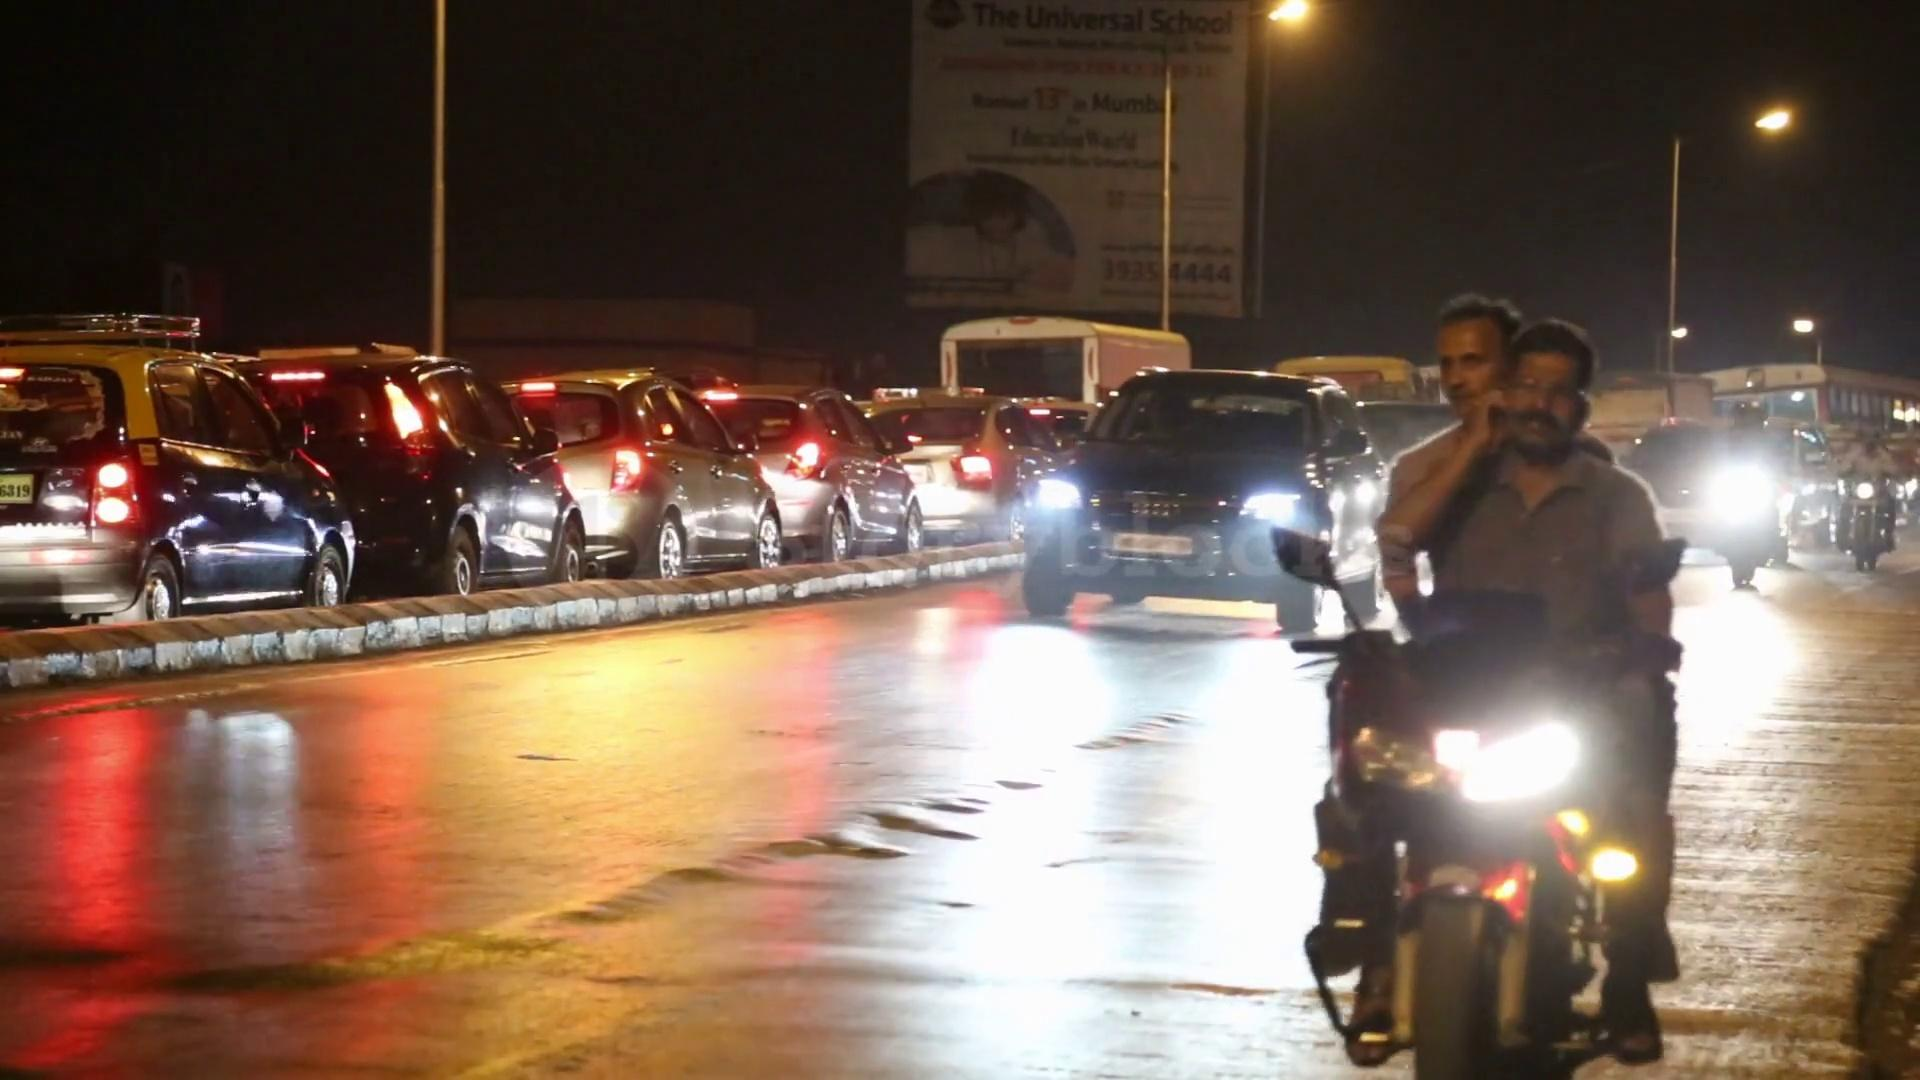rider: (1329, 301, 1683, 1051), (1711, 387, 1797, 601), (1844, 419, 1900, 574)
without_helmate: (1500, 316, 1587, 453), (1417, 293, 1526, 401)
